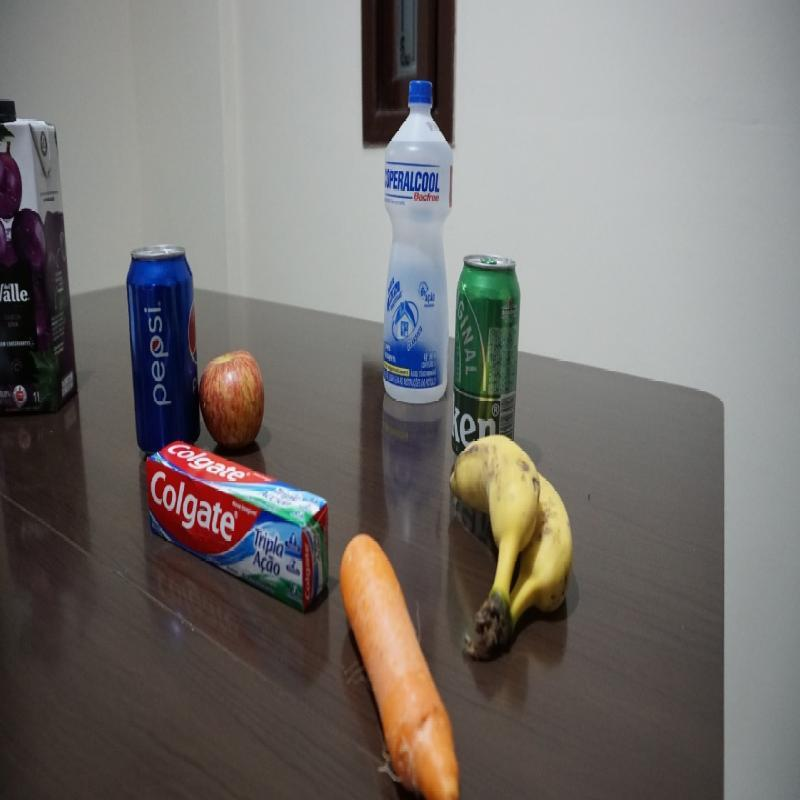Alcohol Bottle: (383, 78, 454, 406)
Apple: (198, 348, 265, 453)
Banana: (448, 433, 574, 665)
Beer can: (451, 252, 524, 462)
Carrot: (341, 532, 463, 798)
Soda can: (125, 243, 204, 453)
Toothpaste: (144, 439, 330, 608)
